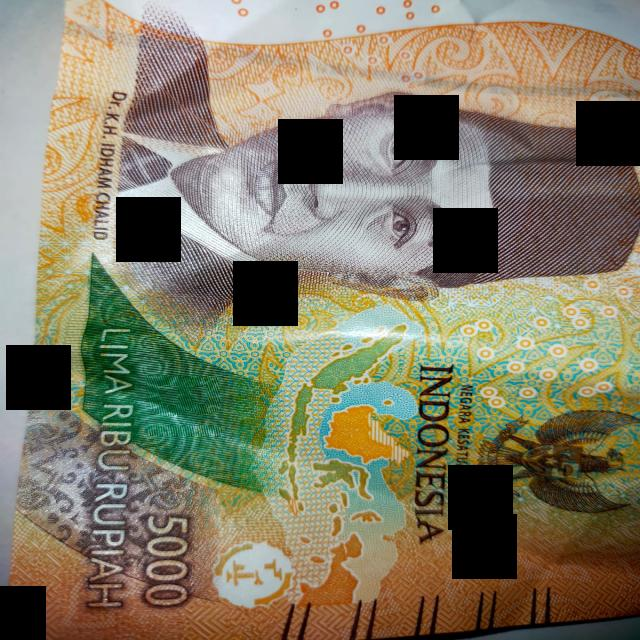lima ribu rupiah: (7, 0, 640, 639)
